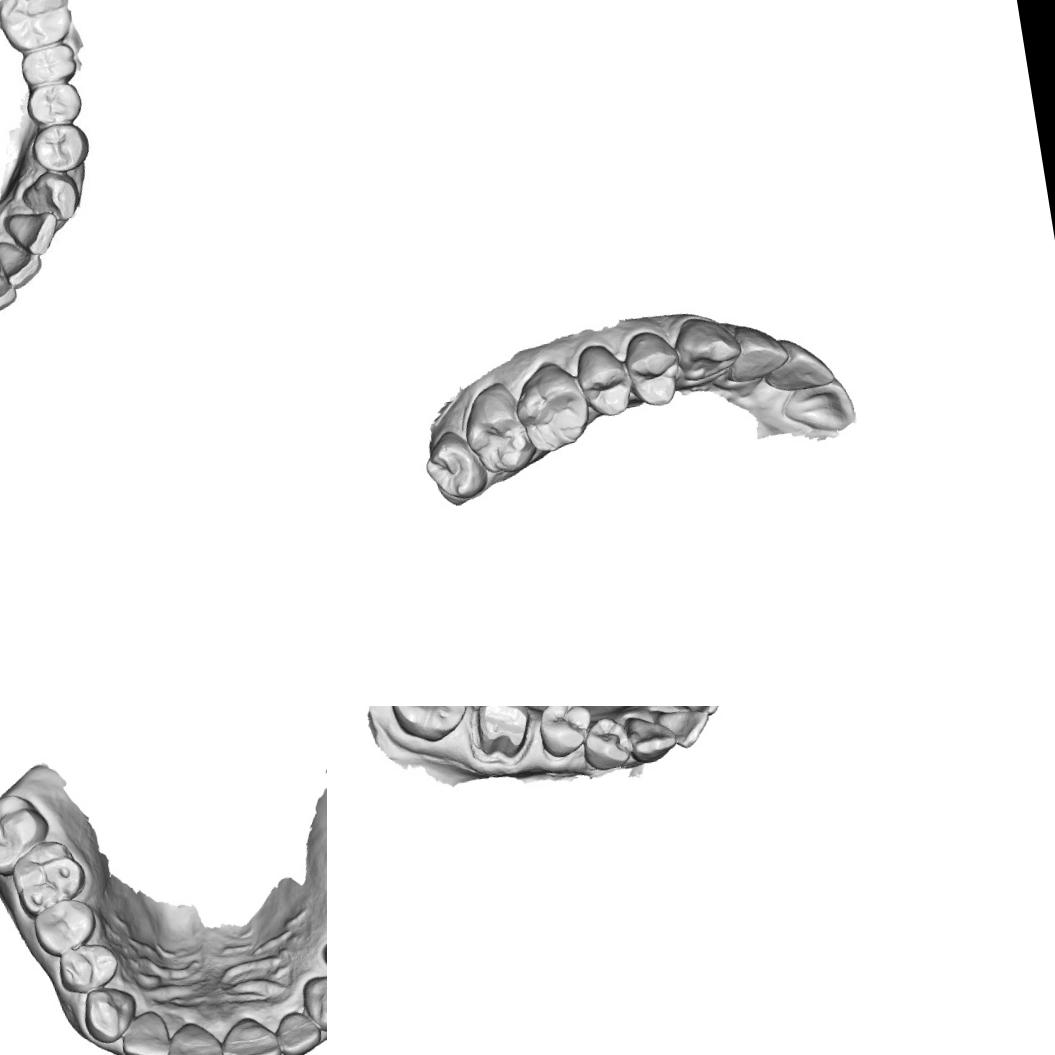canine: (670, 310, 747, 394), (78, 982, 142, 1048), (622, 708, 680, 767), (22, 172, 81, 226), (299, 969, 327, 1034)
crown: (465, 706, 540, 767)
incisor: (725, 318, 797, 394), (778, 377, 856, 439), (762, 334, 832, 401), (215, 1012, 284, 1055), (115, 1006, 175, 1055), (655, 706, 715, 753), (0, 234, 47, 292), (5, 209, 60, 257), (272, 1007, 325, 1055), (161, 1017, 227, 1055), (0, 255, 21, 317), (668, 706, 729, 719)
molar: (7, 835, 92, 922), (509, 367, 593, 451), (464, 386, 534, 477), (420, 426, 487, 508), (0, 788, 57, 882), (383, 706, 479, 748), (0, 0, 71, 49)
premolar: (618, 325, 686, 411), (576, 341, 636, 422), (29, 893, 101, 960), (54, 936, 123, 996), (532, 706, 598, 764), (577, 712, 634, 774), (36, 122, 88, 174), (21, 40, 77, 88), (28, 82, 84, 130)
